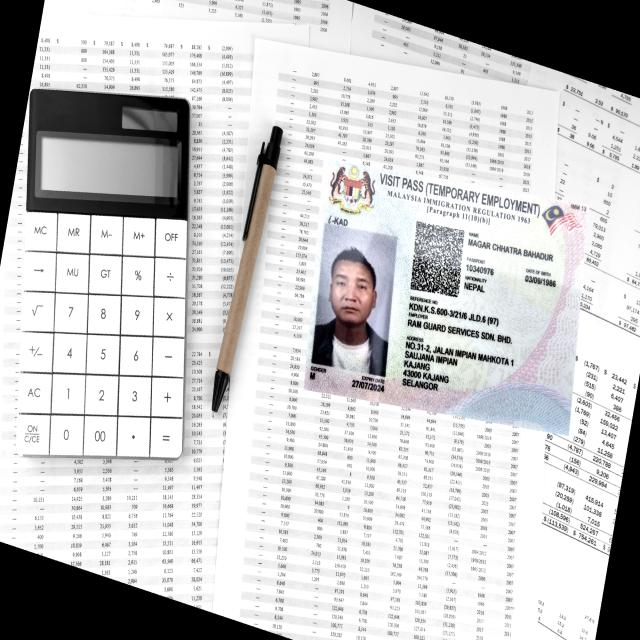ikad-temp: (302, 162, 597, 442)
